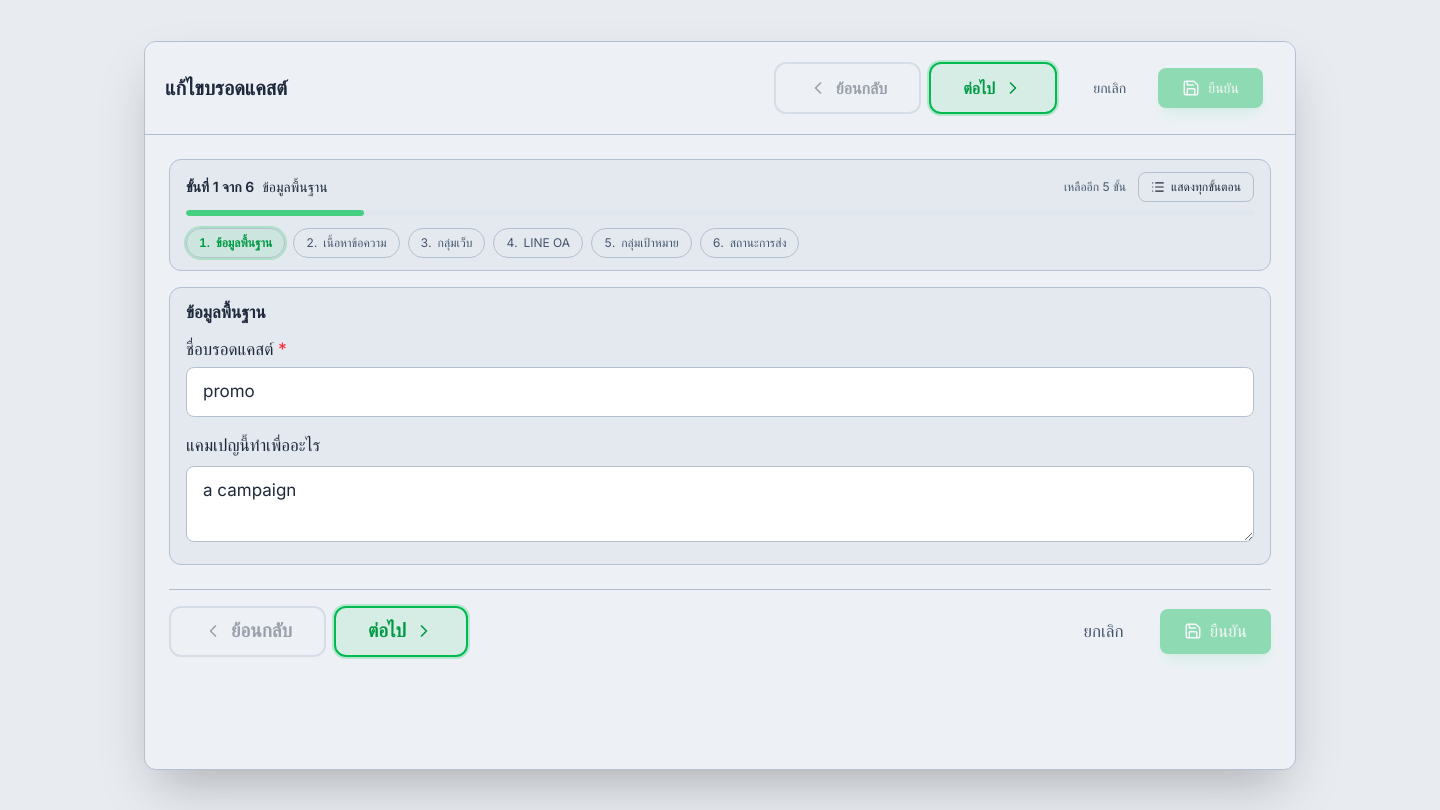
Test: the form — switching to Broadcast says what happened › ⭐⭐ RED BEFORE THE FIX: the notice appears after the switch
Click the button with test id "-toggle" at (1196, 186), box [1138,172,1254,202]
(page scrolled)
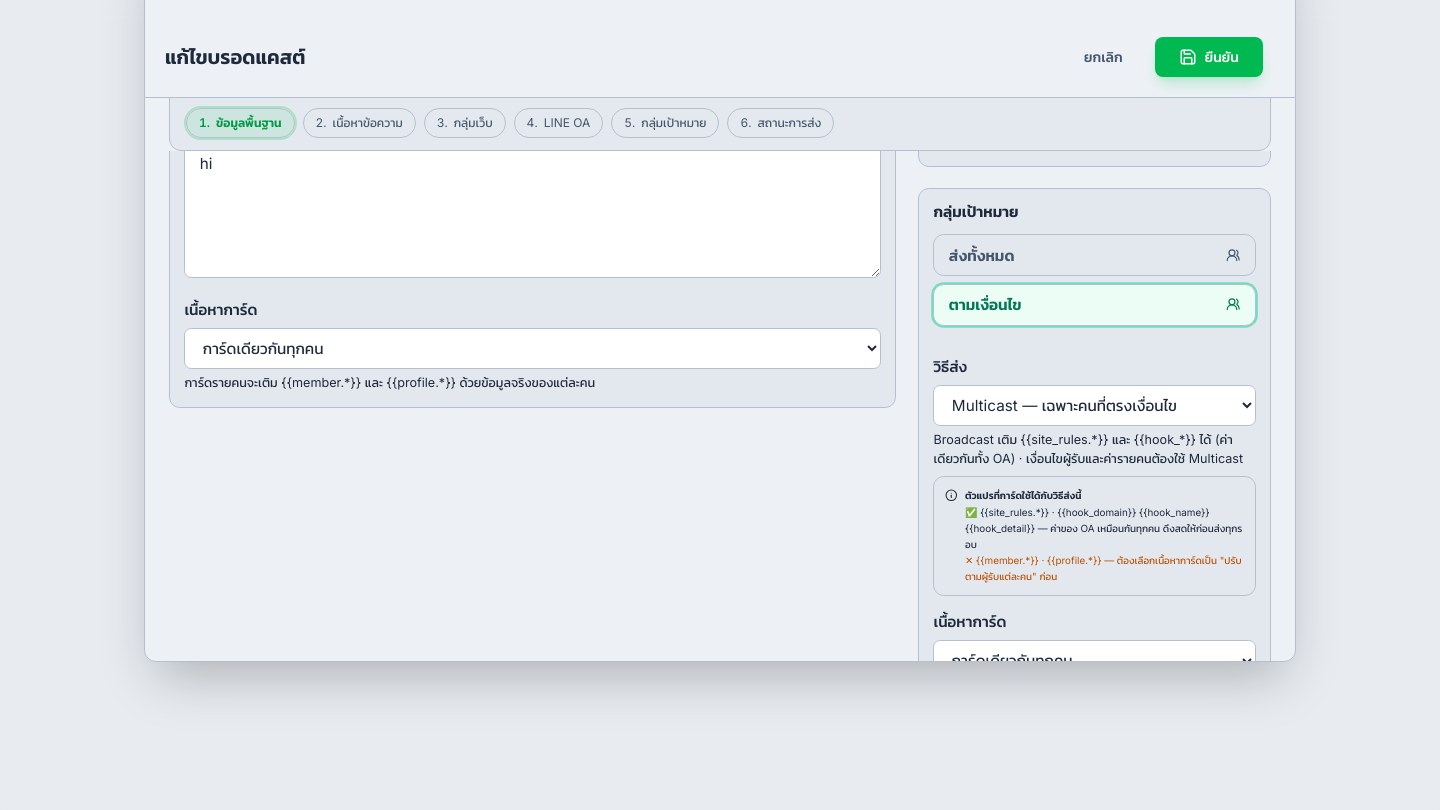
expect the 2nd dropdown named "send_kind" is shown: met
Select "Broadcast — ทุกคนที่ติดตาม OA" in the 2nd dropdown named "send_kind" at (1095, 405), box [934,385,1256,426]
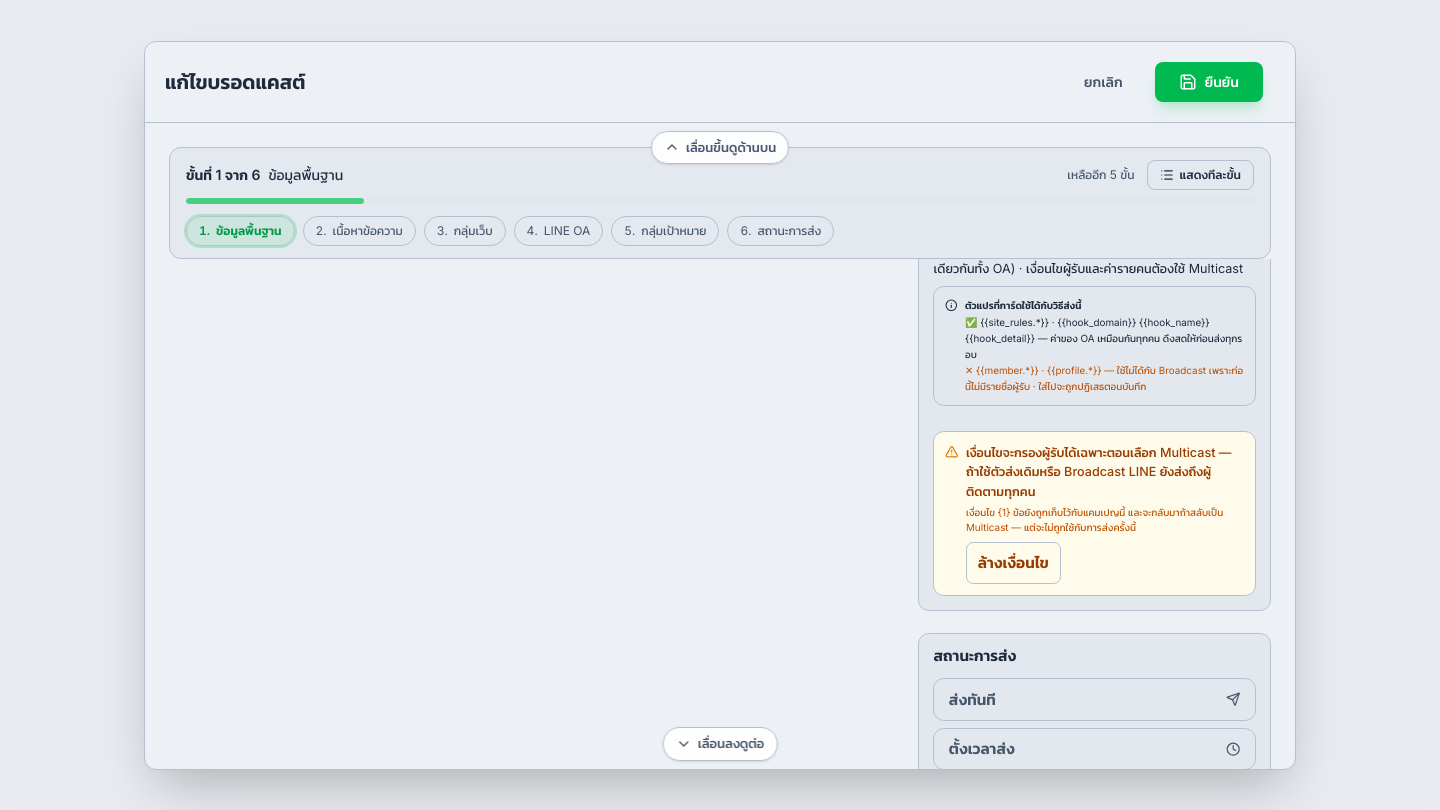
expect the element with test id "audience-kept-notice" is shown: met, box [934,431,1256,596]
